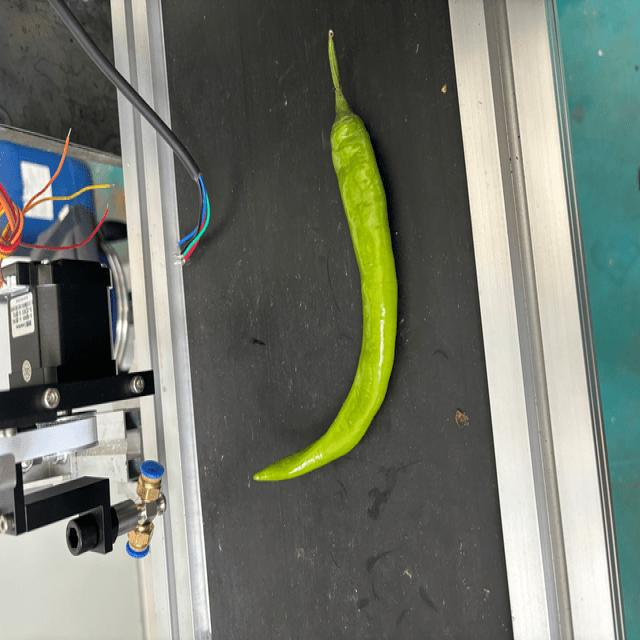chili: (250, 110, 400, 483)
